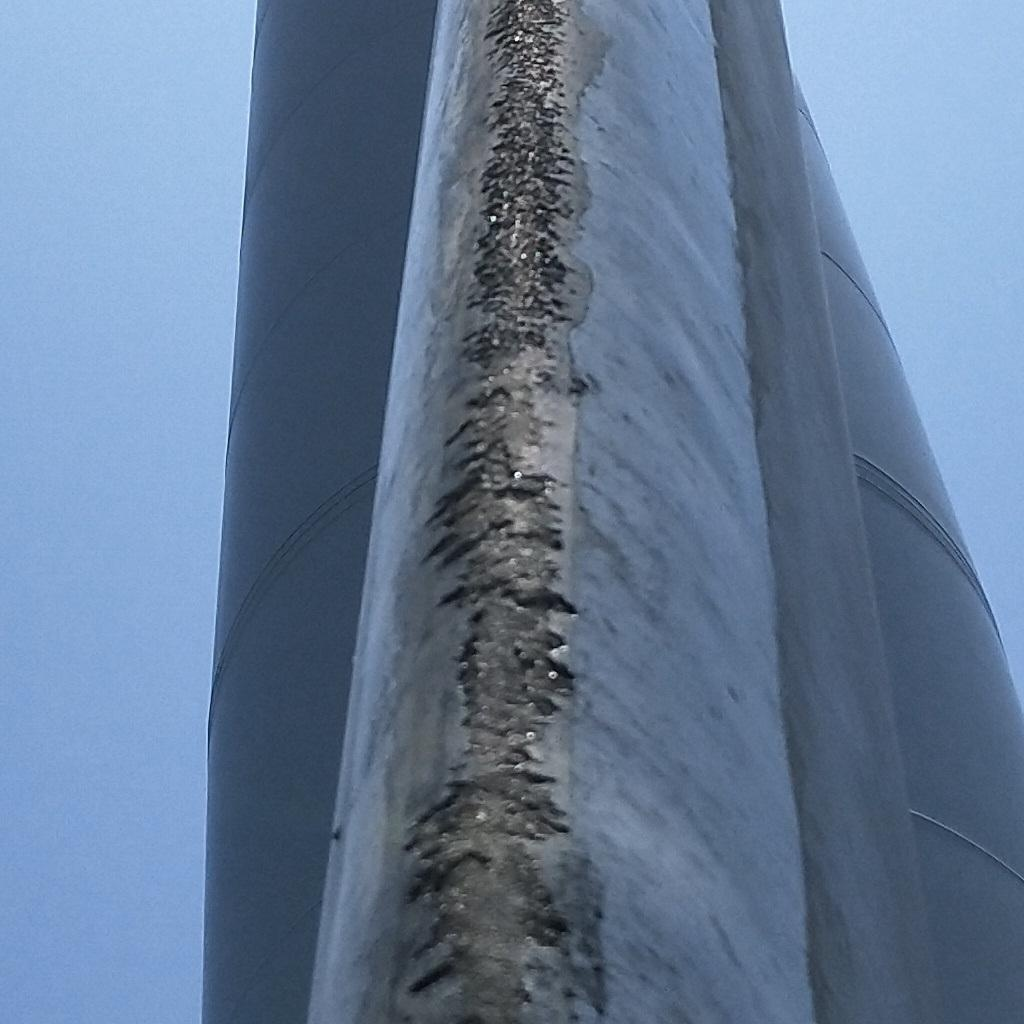corrosion: (402, 5, 602, 1010)
